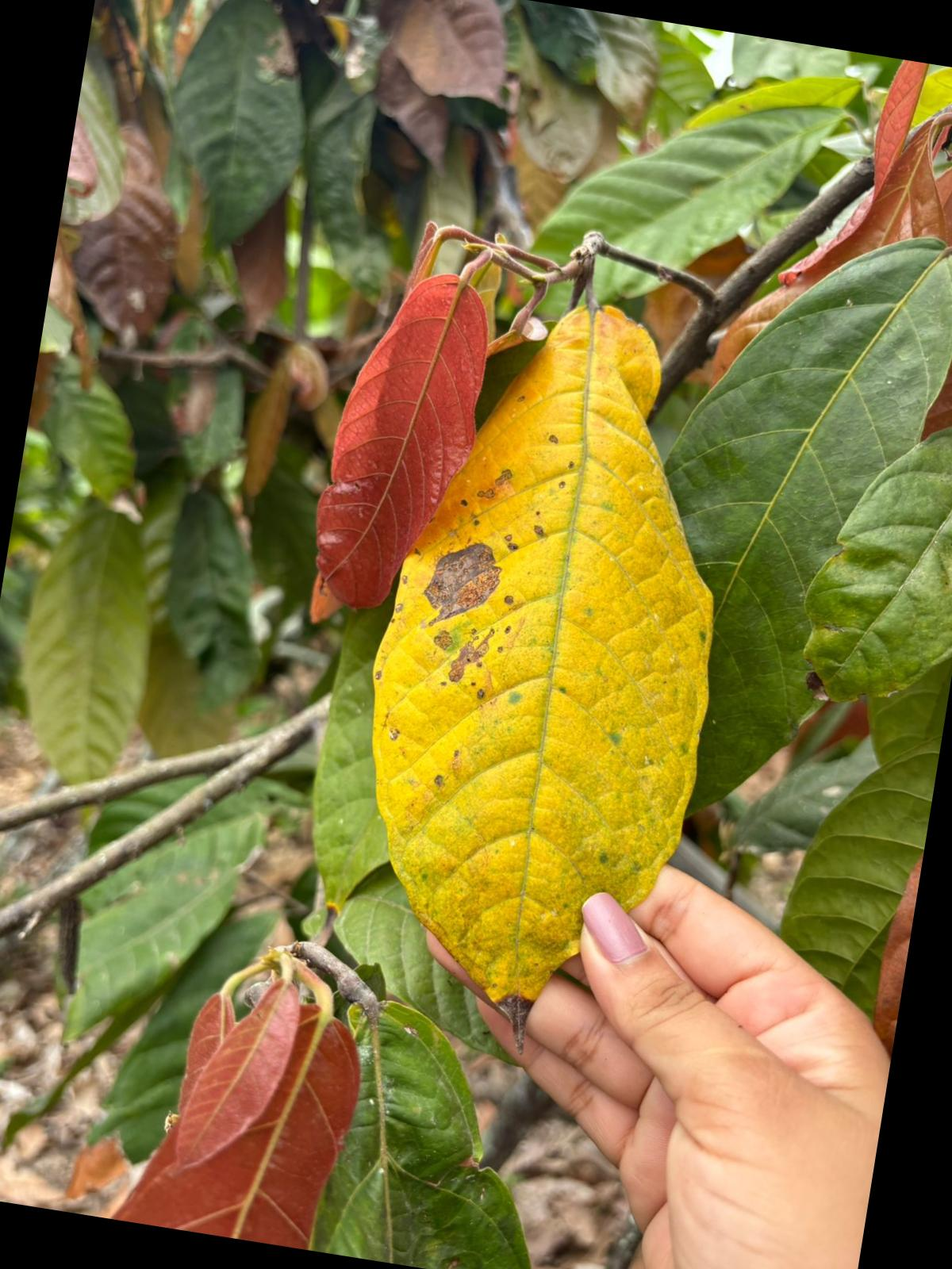Fosforo: (373, 305, 713, 1033)
